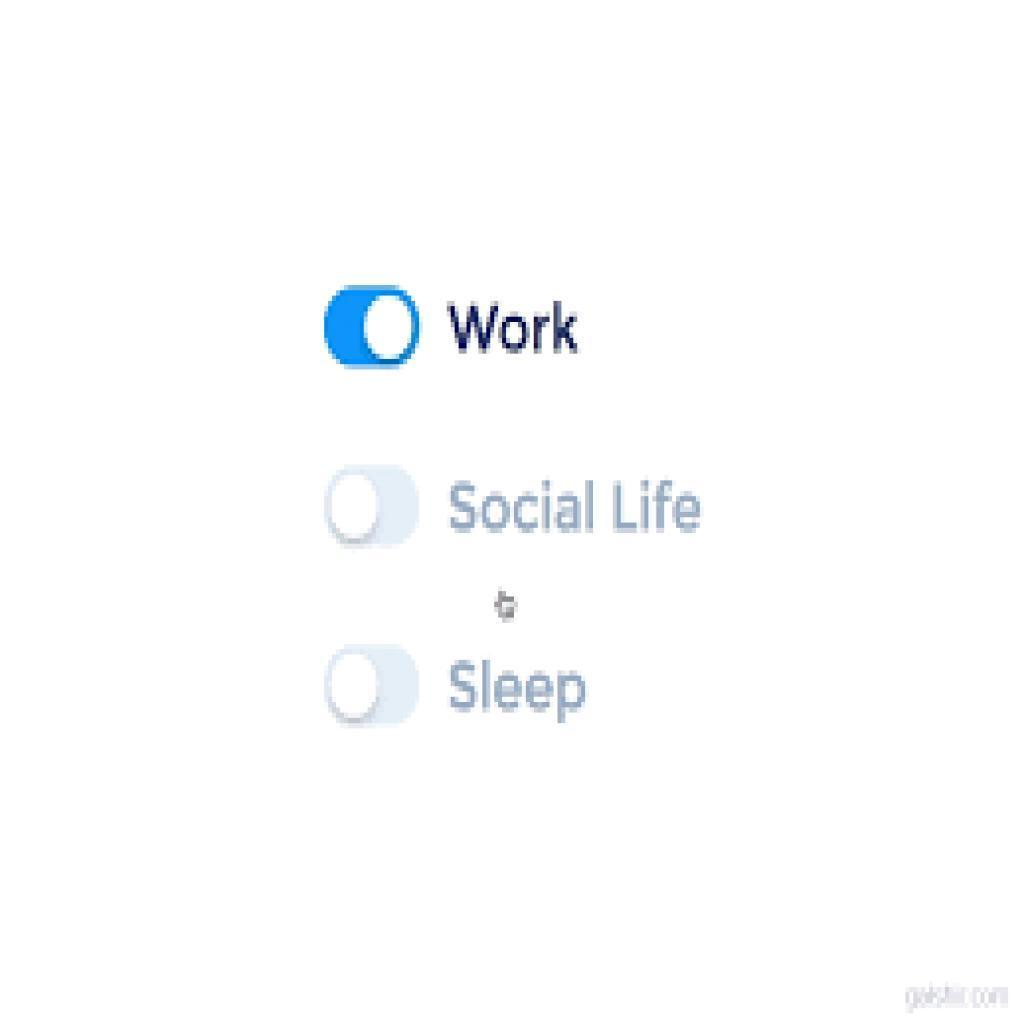switch: (321, 462, 424, 559), (328, 646, 428, 730), (328, 287, 423, 371)
